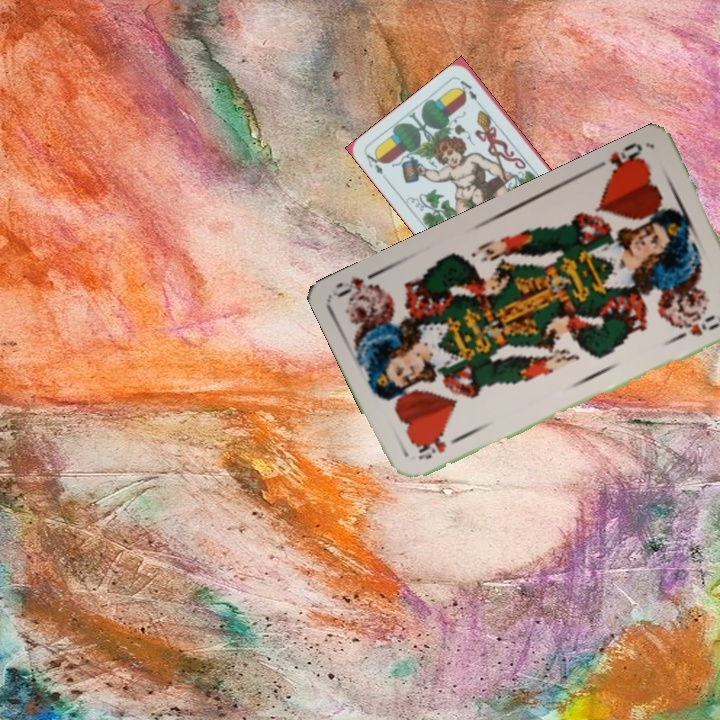EA: (362, 148, 391, 184)
HO: (601, 138, 648, 182), (414, 431, 466, 463)
